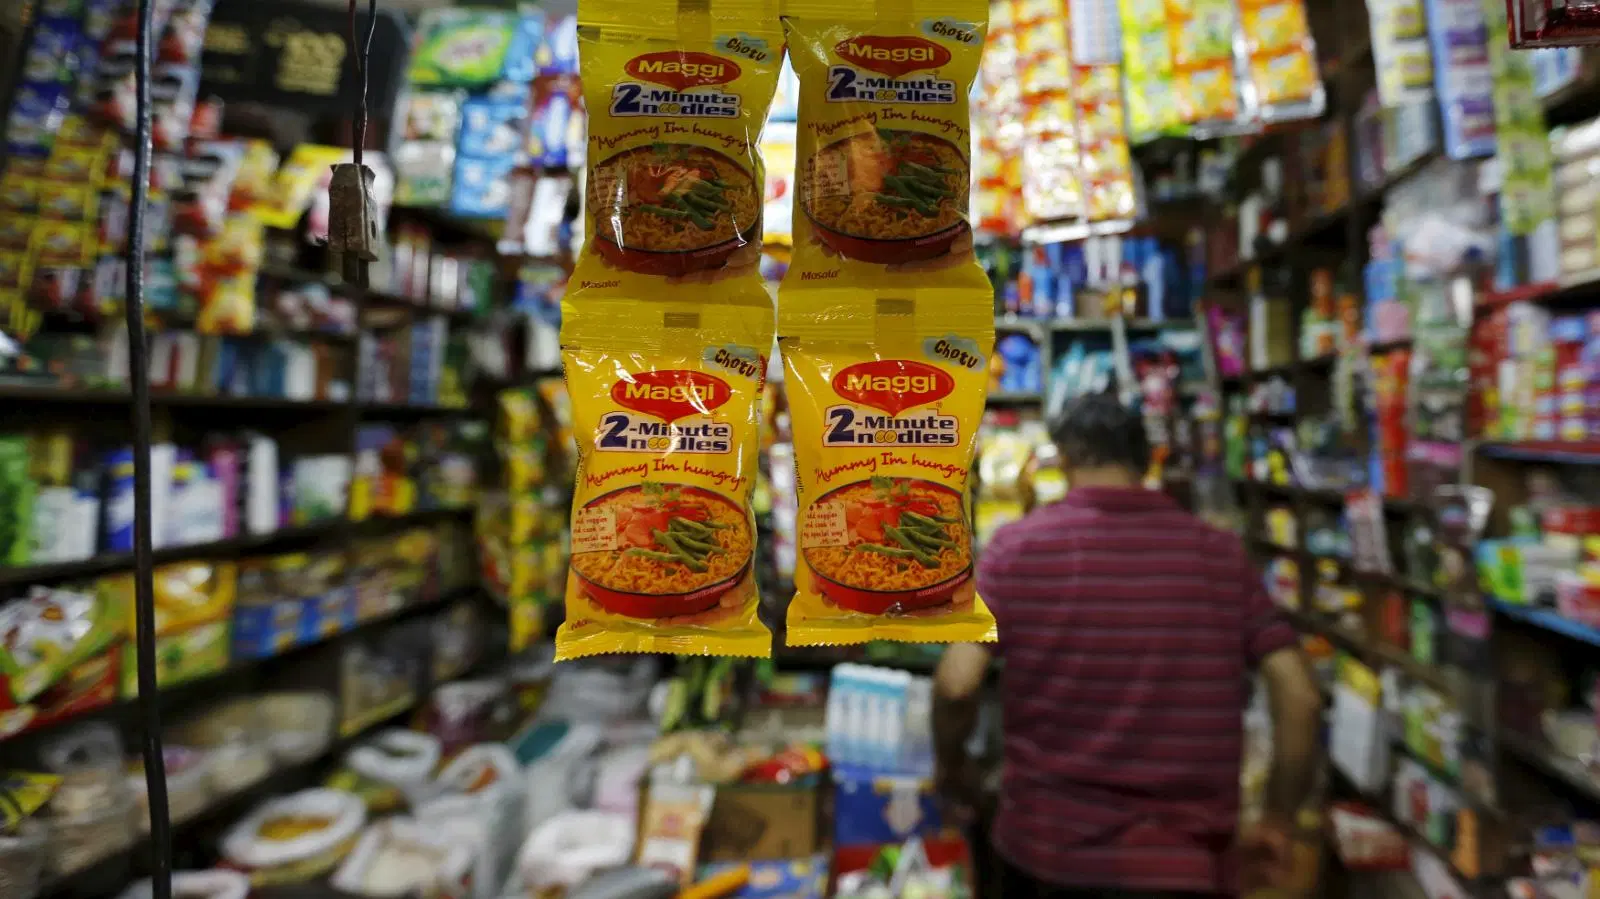maggi: (777, 312, 1008, 648), (558, 311, 768, 655), (788, 14, 999, 307), (569, 25, 770, 304)
